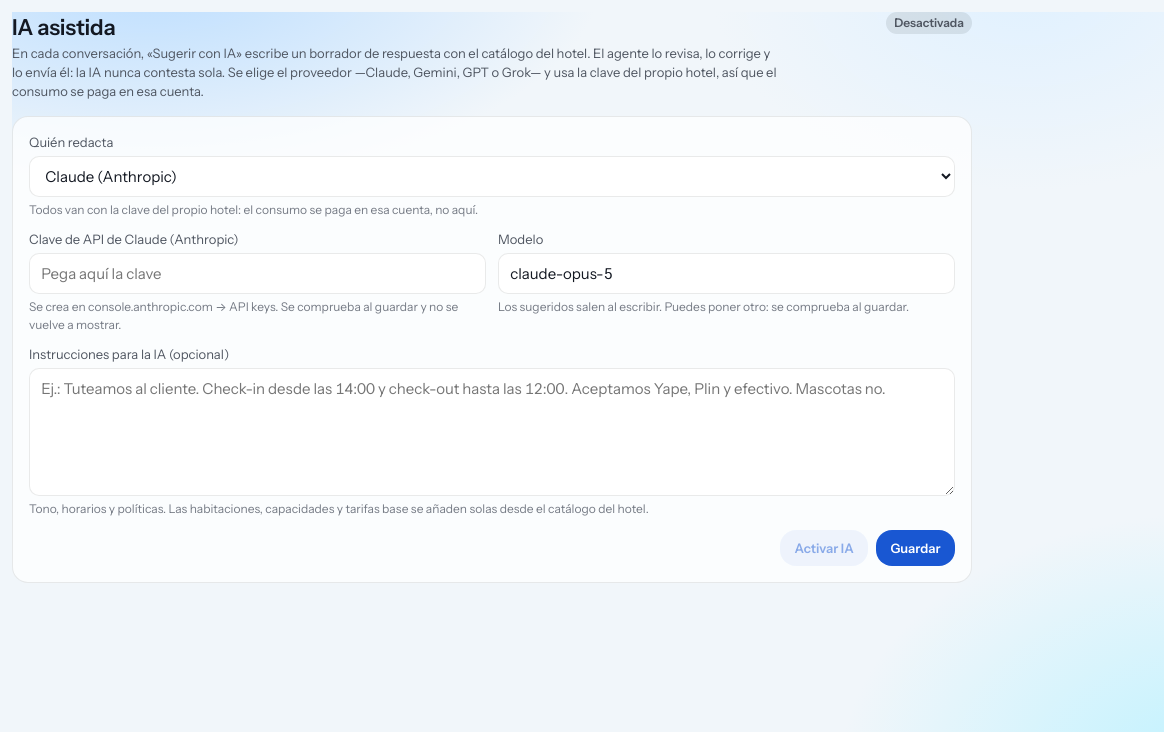
Ajustes → IA › guarda la clave y la limpia del campo; la respuesta dice que quedó guardada
Type "sk-ant-api03-una-clave-larga" into the password field labelled "Clave de API de Claude" at coordinates (258, 274), box [29,253,486,294]
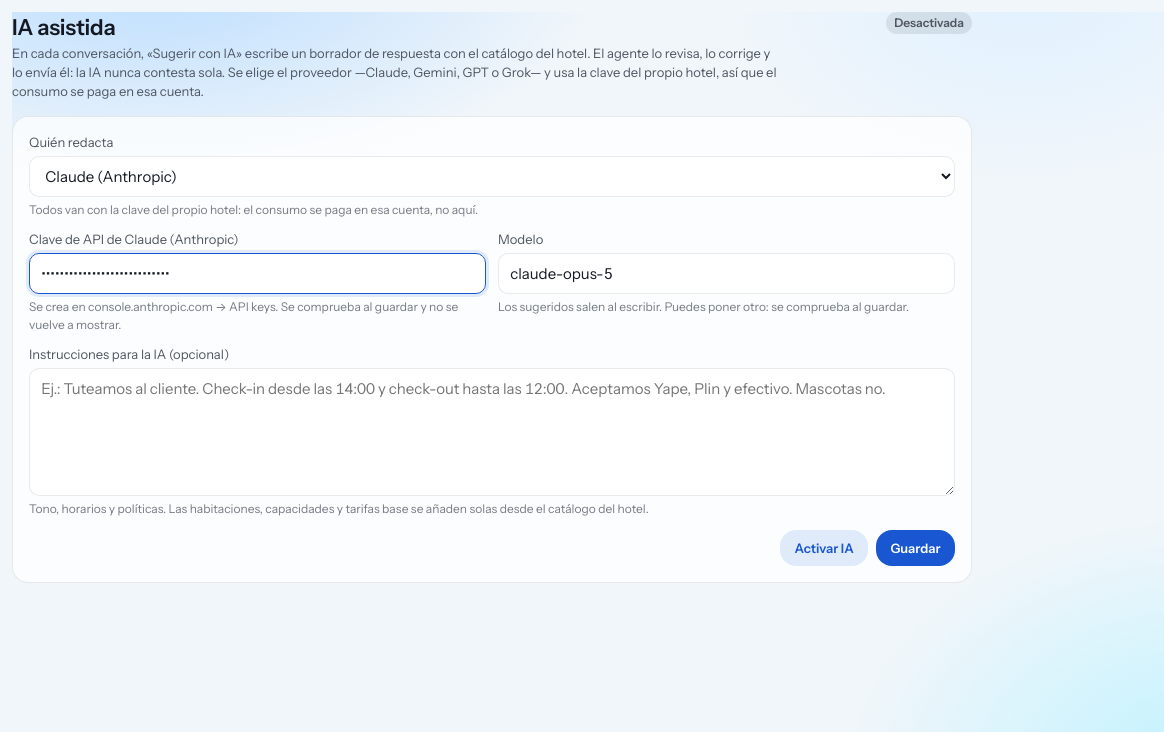
Click the button "Guardar" at coordinates (916, 548), box [876,530,955,566]
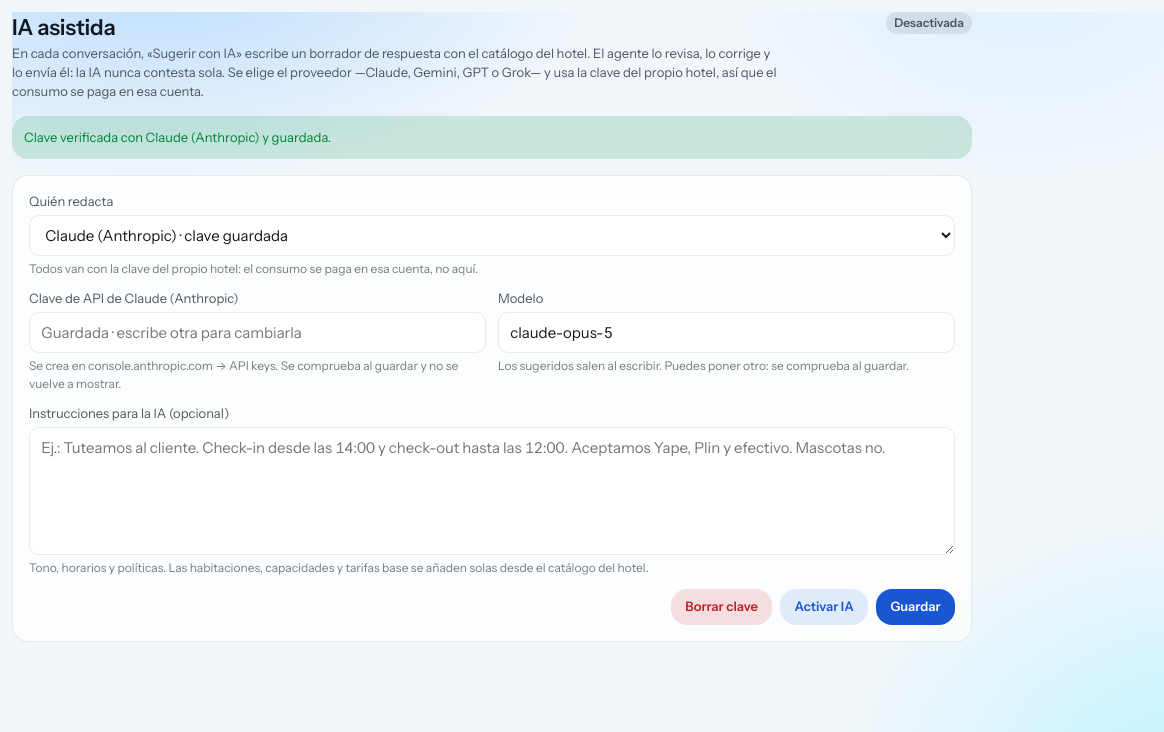
expect the text "Clave verificada con Claude (Anthropic) y guardada." is shown: met, box [12,116,972,159]
expect the password field labelled "Clave de API de Claude" is empty: met, box [29,312,486,353]
